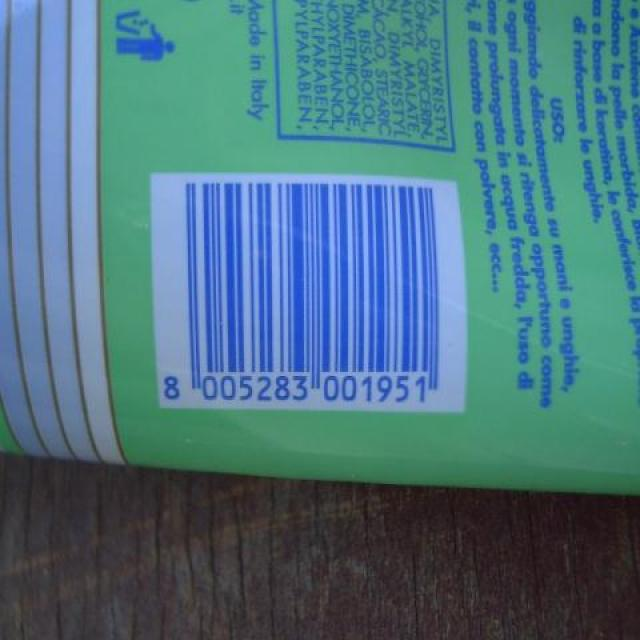Barcode: (150, 176, 463, 412)
